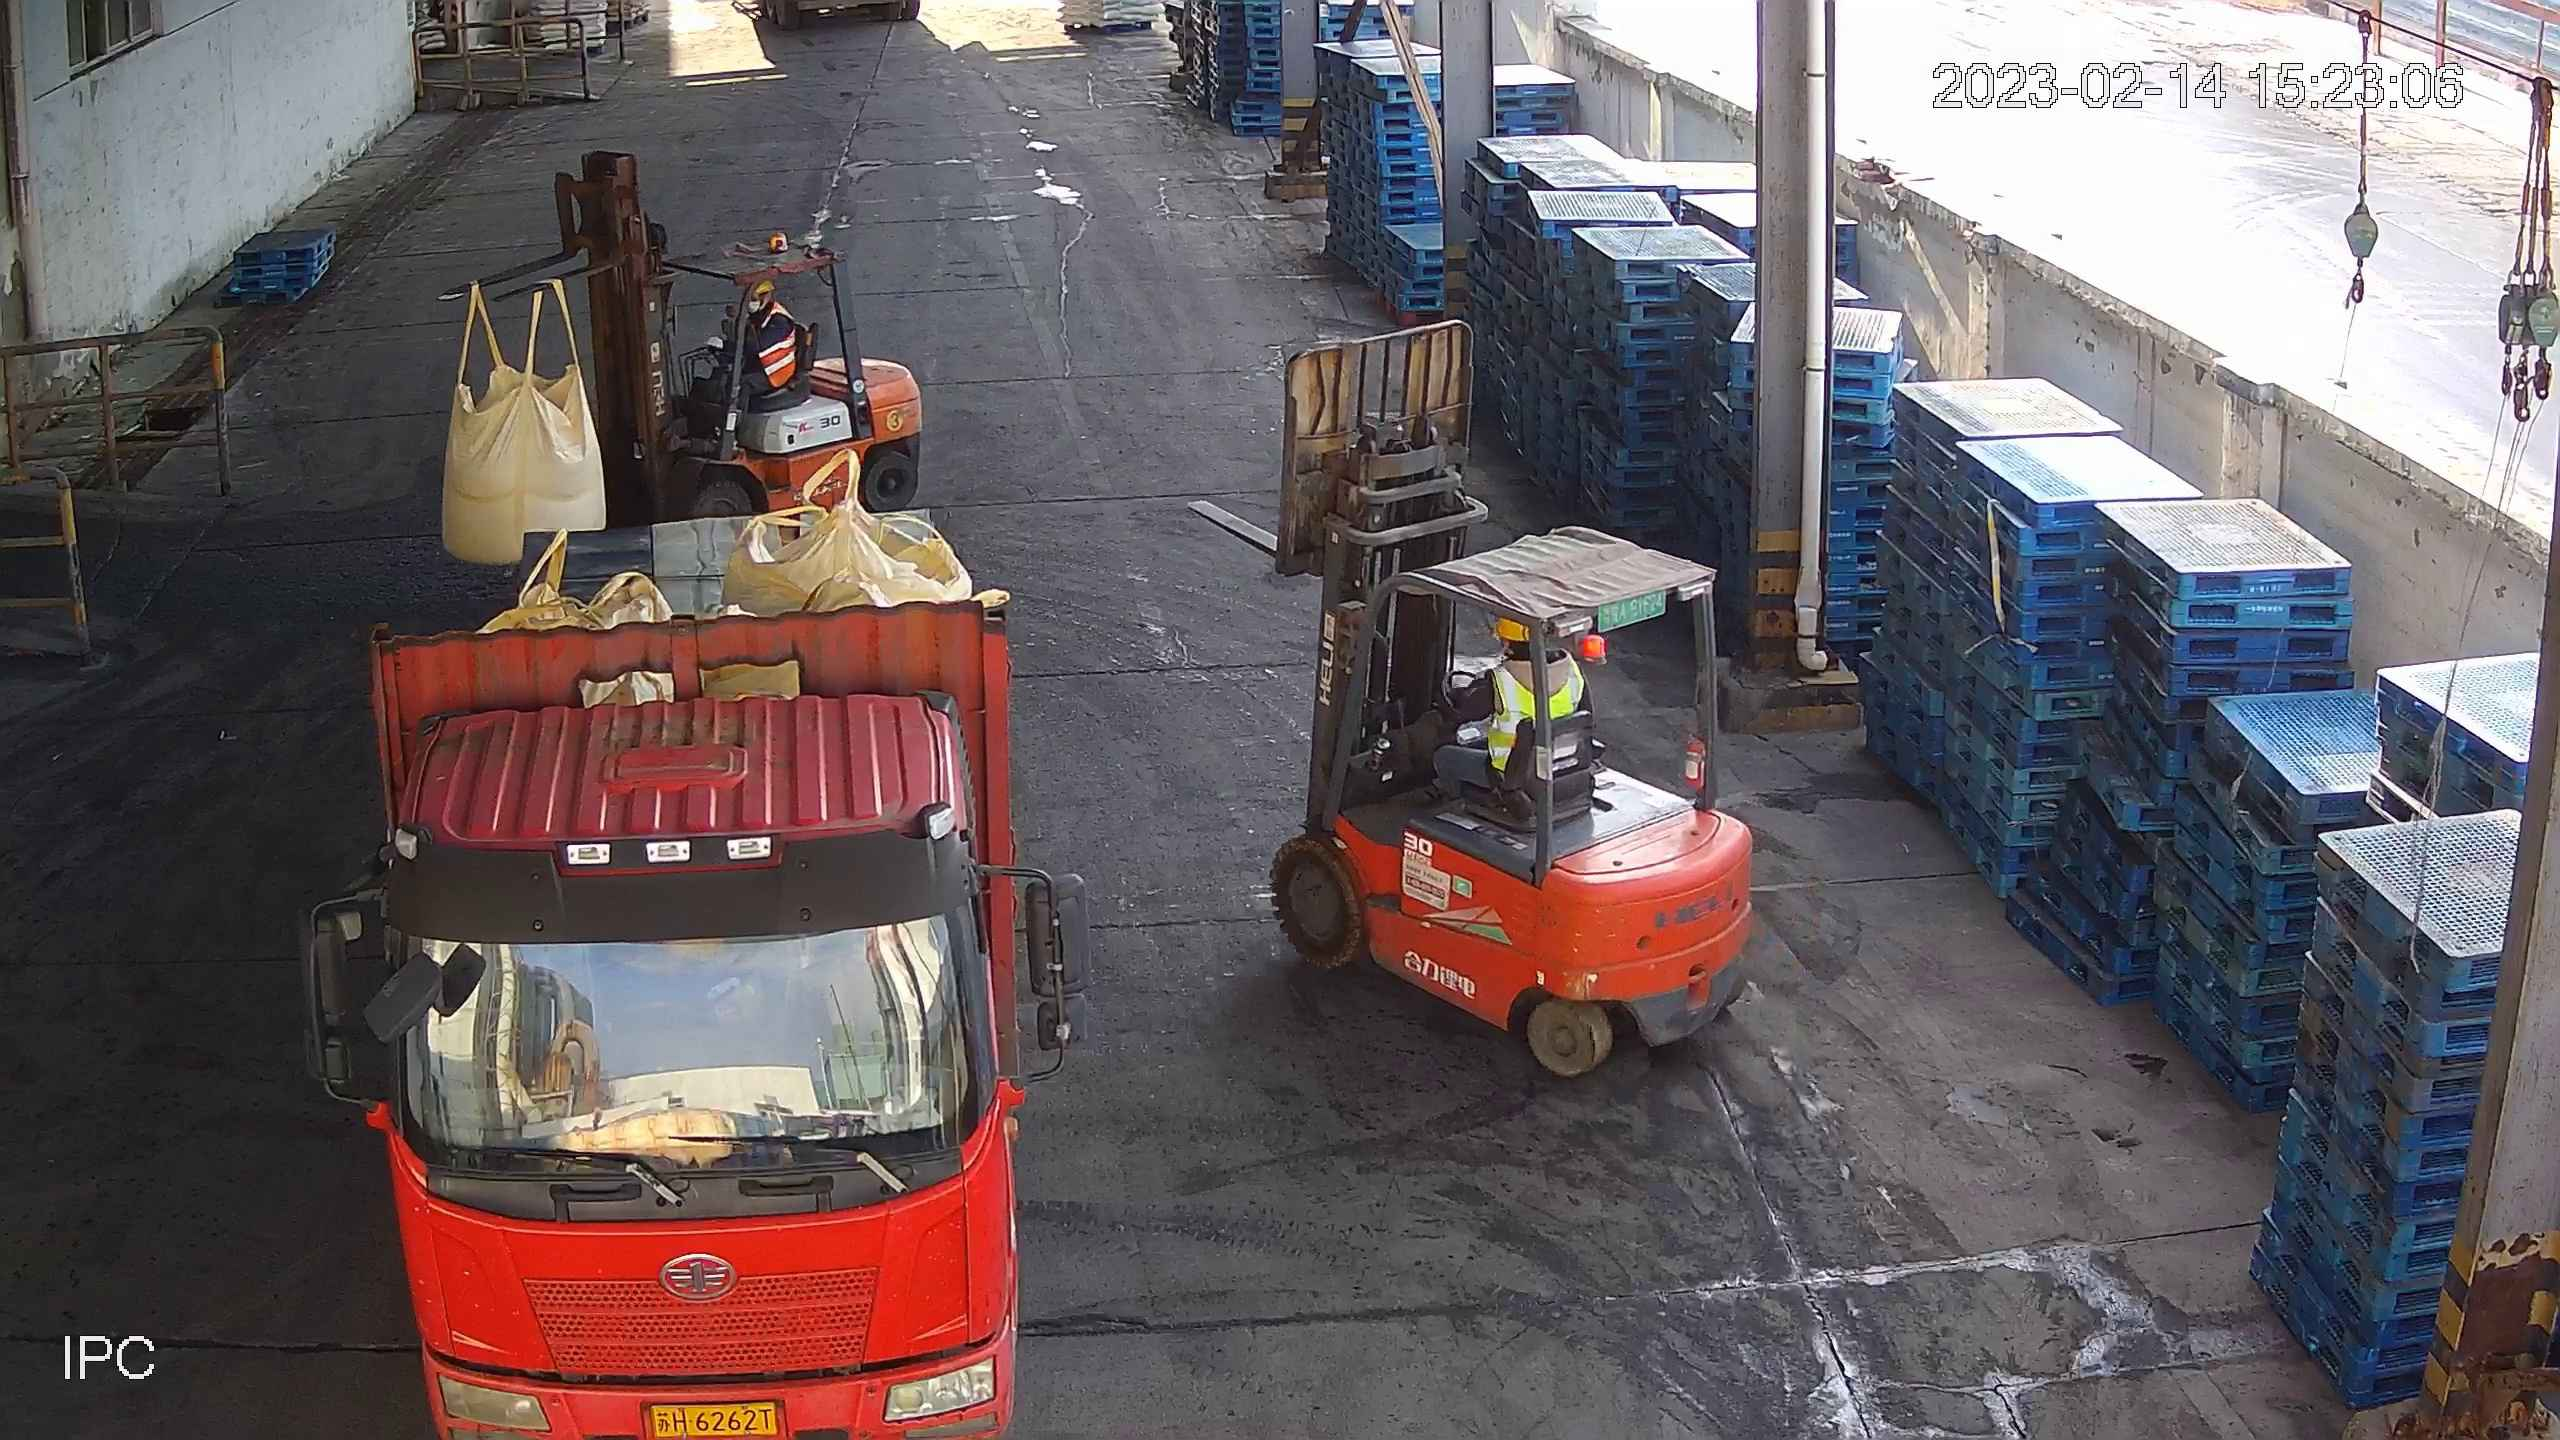head: (1472, 611, 1584, 719), (735, 280, 798, 344)
people: (1433, 613, 1596, 793), (721, 275, 797, 448)
truck: (298, 501, 1091, 1440)
